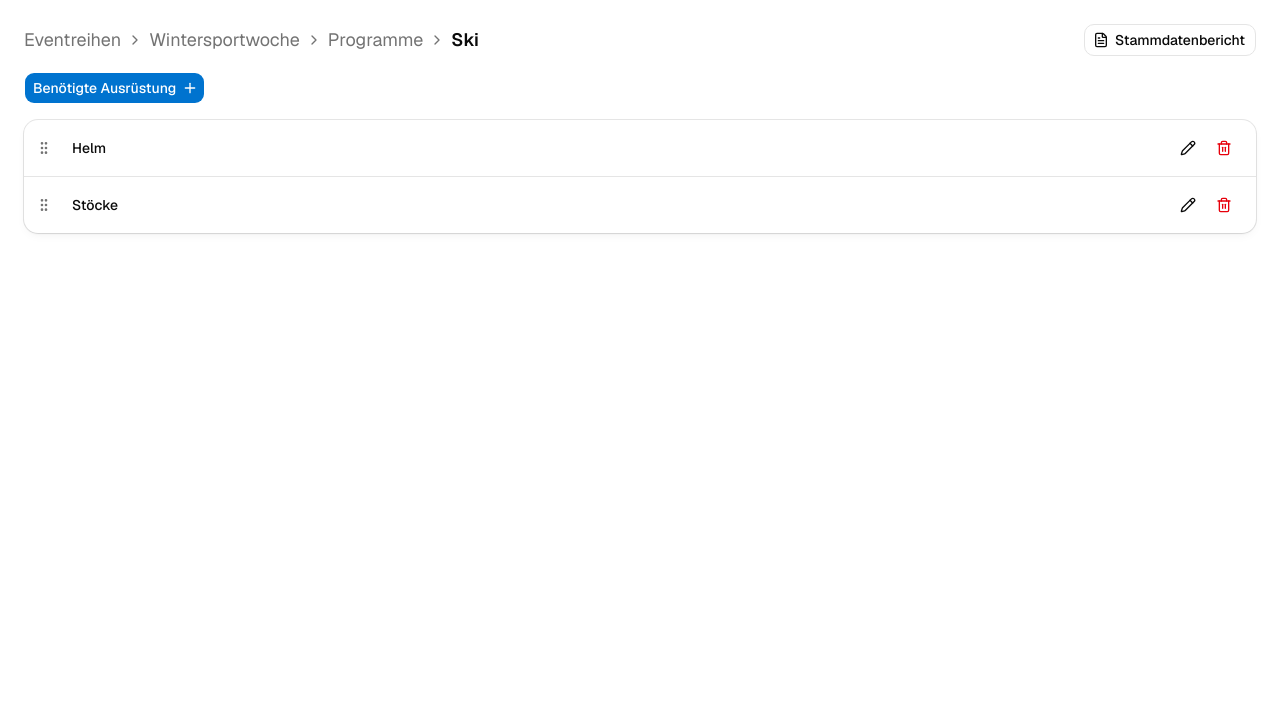
it: ProgramEquipmentView › reports the whole series, not only the programme it is on
Click the button "Stammdatenbericht". click: (1170, 40)
box: [1084, 24, 1256, 56]
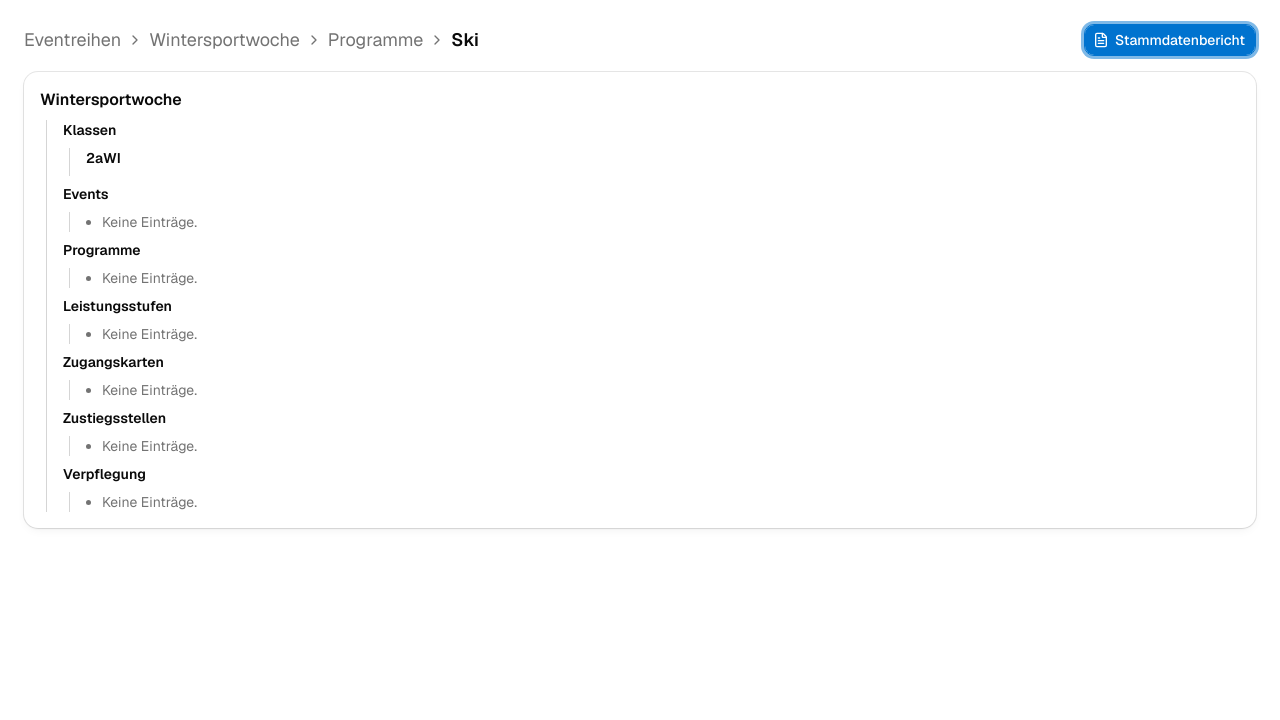
Result: the heading "Klassen" is shown at [63, 121, 116, 139]
